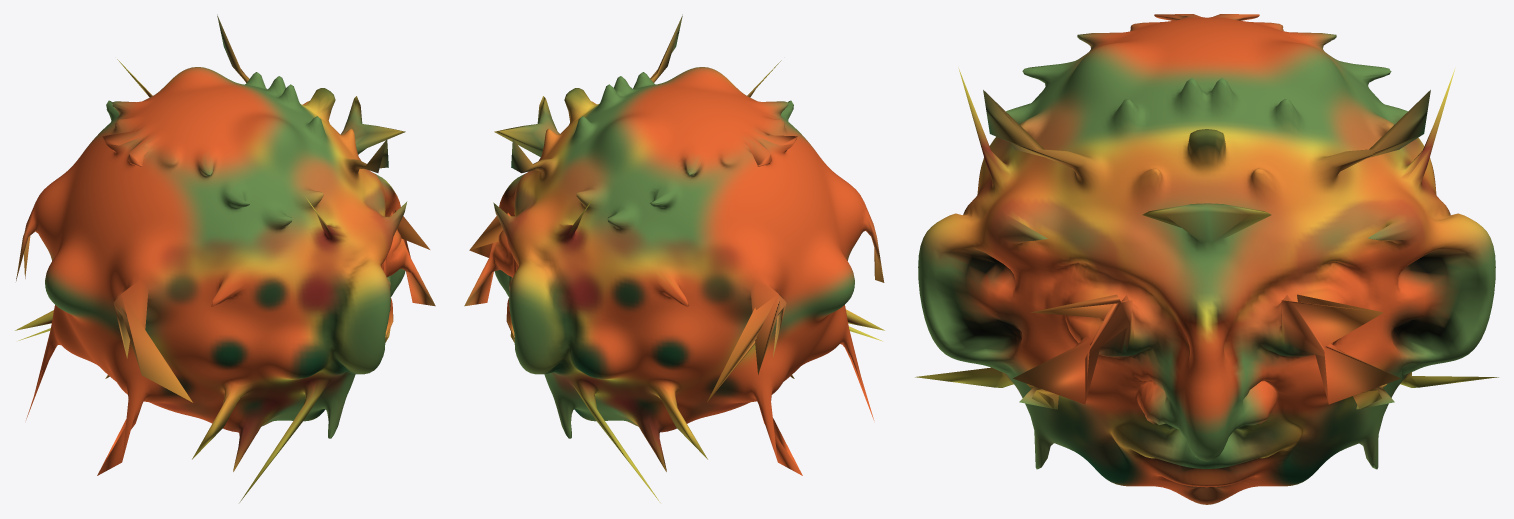
File: madball1.fbx
3 views of the same model, side by side, from view 1: azimuth 30°, elevation 25°; view 2: azimuth 150°, elevation 25°; view 3: azimuth 270°, elevation 25° (orthographic). The views are drawn at different scales.
Parts seen in each view (by area): view 1: Quad Sphere; view 2: Quad Sphere; view 3: Quad Sphere.
Boxes of the visible parts, left/top/right/bottom form: Quad Sphere: left=15, top=14, right=435, bottom=502; Quad Sphere: left=464, top=14, right=884, bottom=502; Quad Sphere: left=915, top=14, right=1498, bottom=504.
Bounding box in the file's own units: 317 × 287 × 342.
